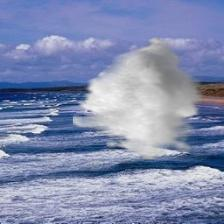fire: (72, 34, 205, 160)
